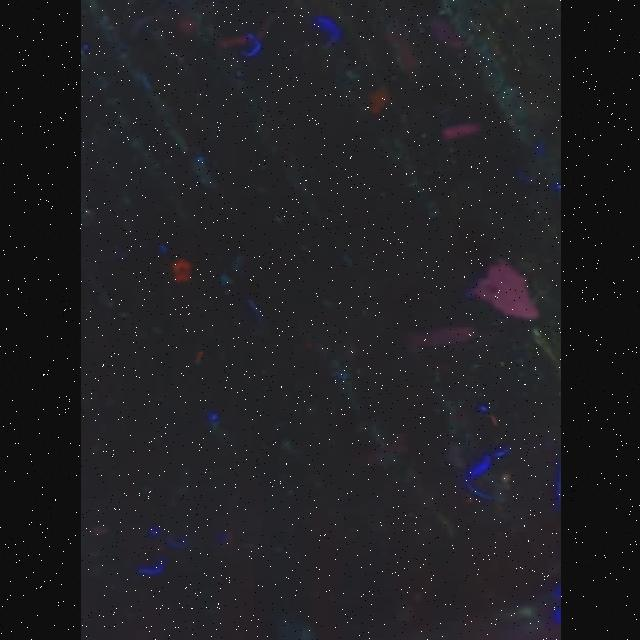Fragment: (470, 259, 539, 319)
